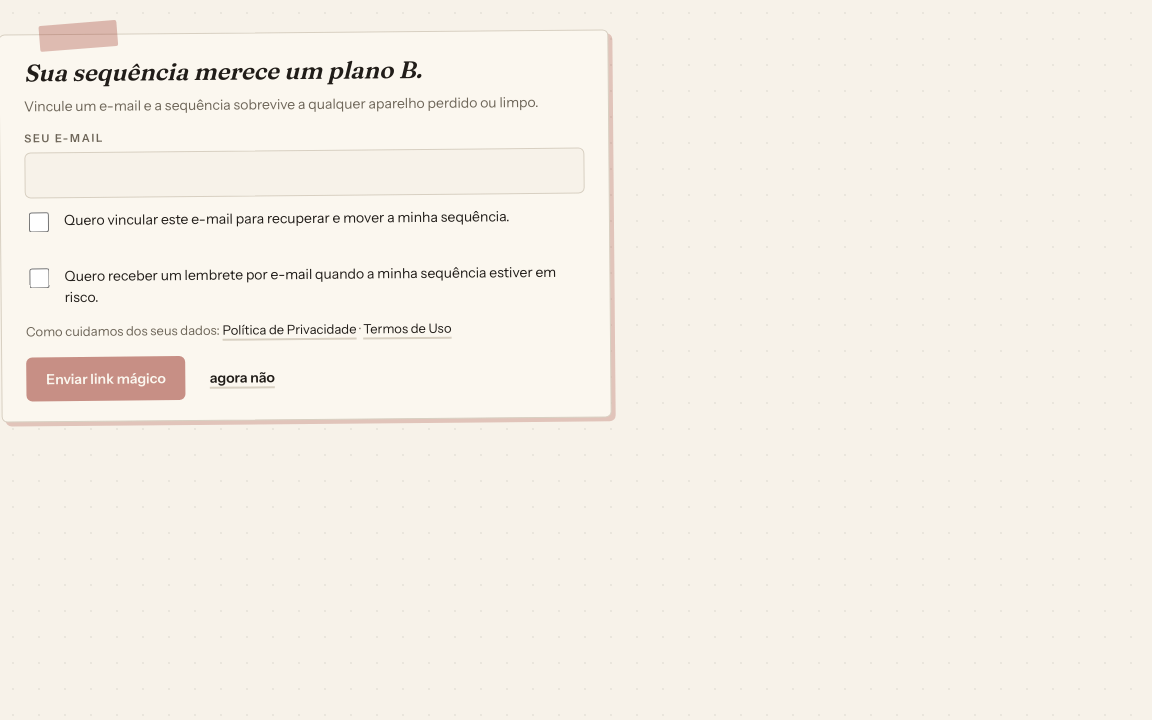
Test case: HubAttach sent and error states (T-WEB-S138) › the sent state replaces the form and shows the normalized address; errors render inline from messages
The width and height of the screenshot is (1152, 720).
Step 1. Type "Jogadora@Example.COM" into the field labelled "Seu e-mail" → (304,173), box [24, 147, 585, 198]
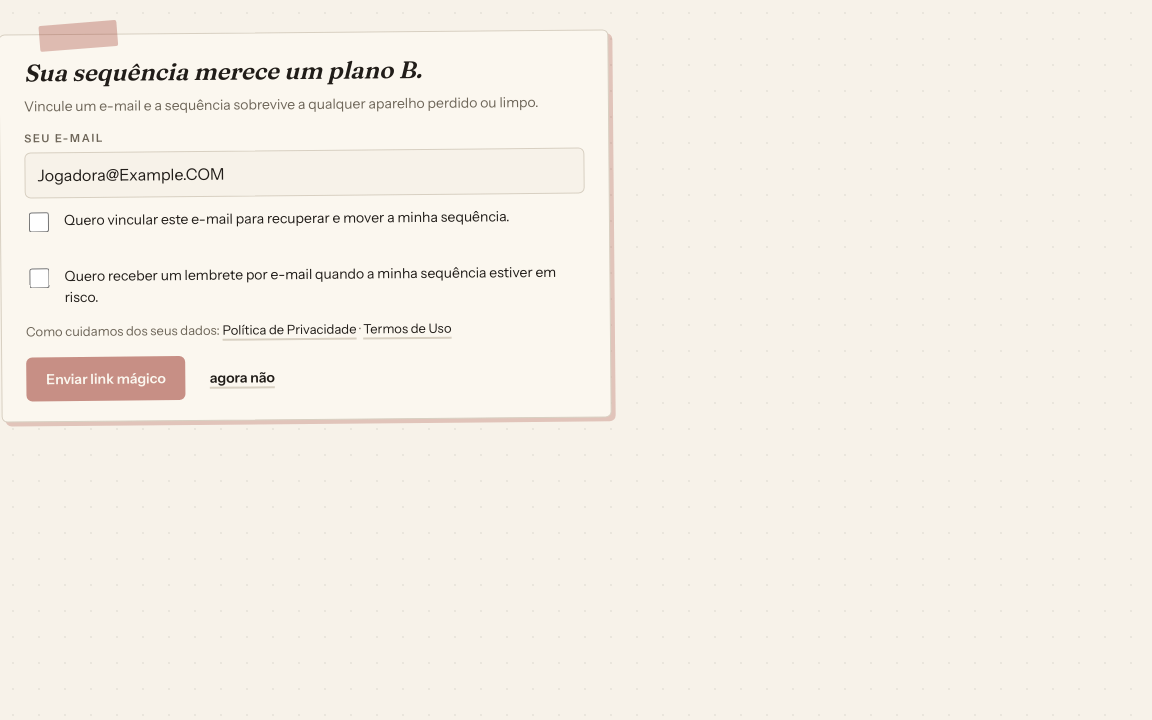
Step 2. Click the checkbox labelled "Quero vincular este e-mail para recuperar e mover a minha sequência." → (39,222), box [29, 212, 49, 232]
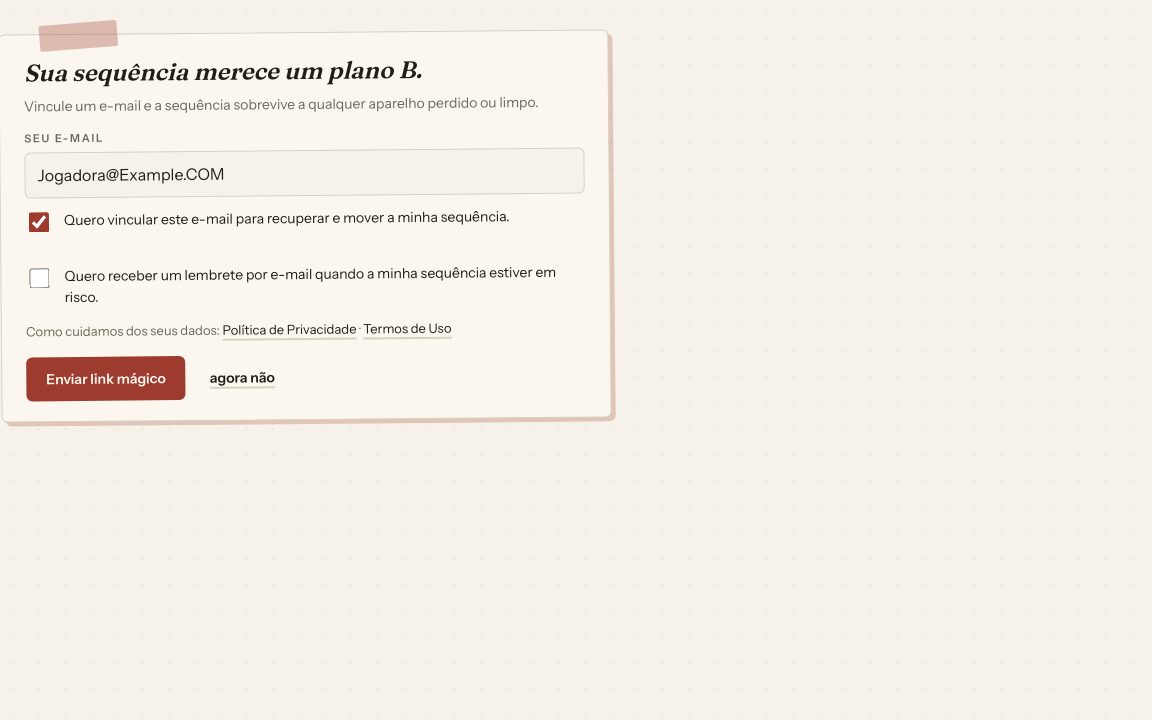
Step 3. Click the button "Enviar link mágico" → (106,379), box [26, 356, 186, 402]
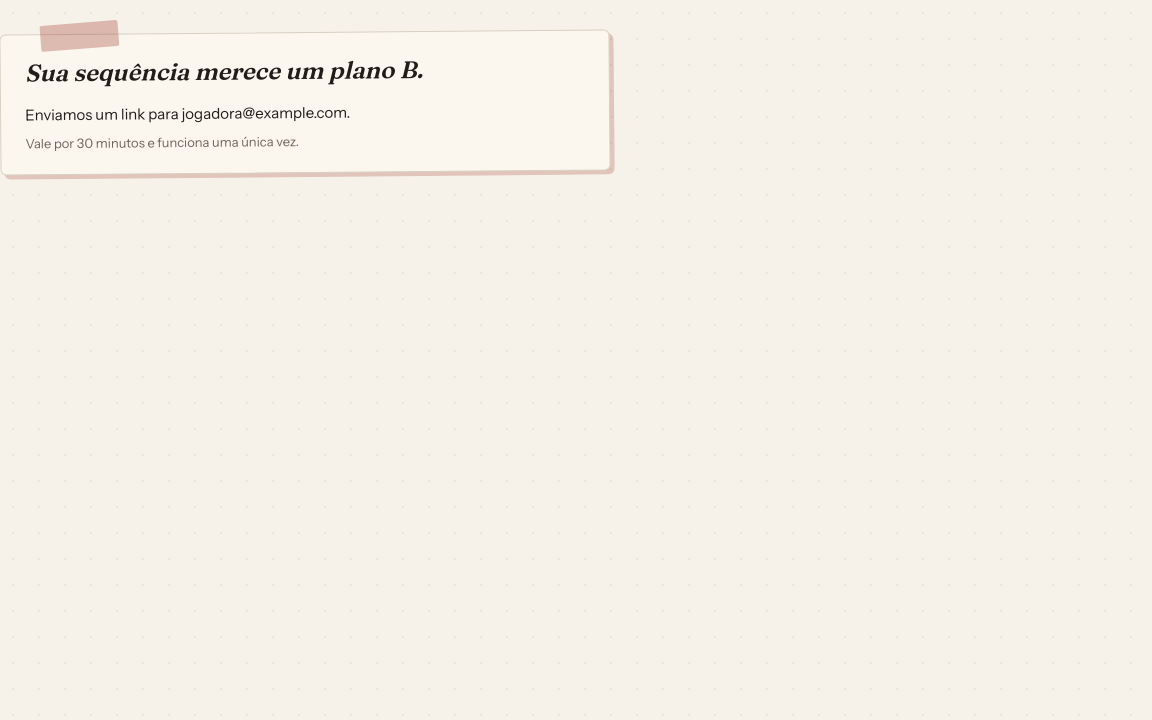
Expected: the text "Vale por 30 minutos e funciona uma única vez." is shown, [25, 133, 299, 152]
Expected: the label labelled "Seu e-mail" is gone
